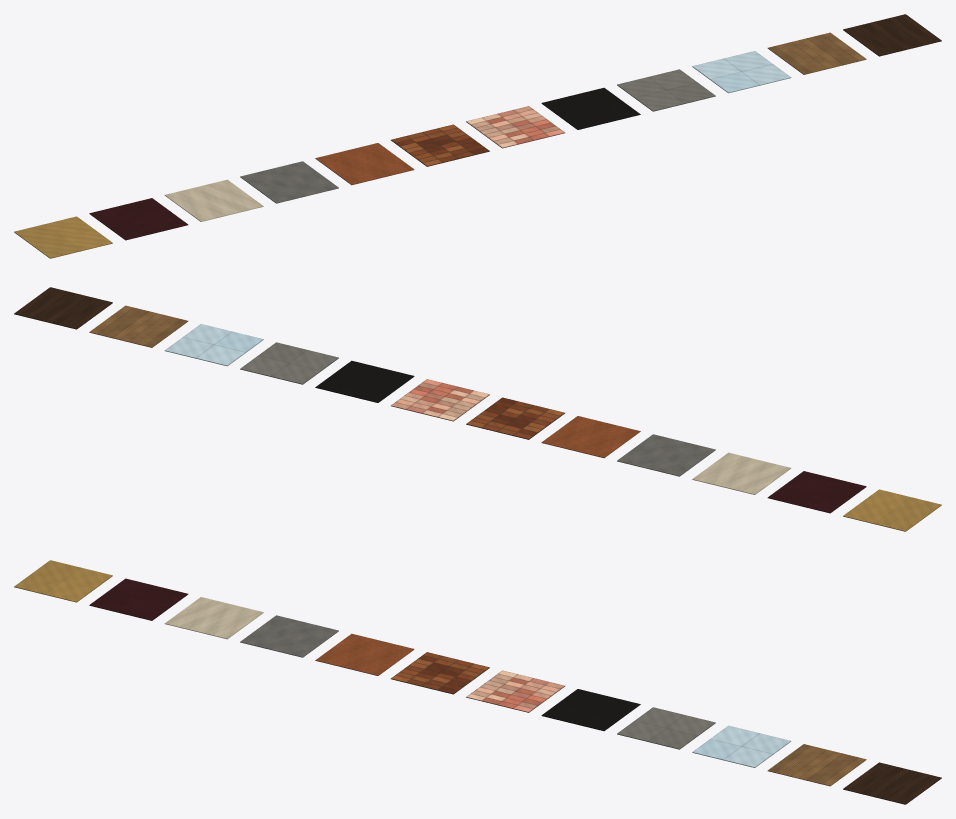
File: surfaces.mobile.glb
3 renders of one model, top to bottom at view 1: azimuth 30°, elevation 25°; view 2: azimuth 150°, elevation 25°; view 3: azimuth 330°, elevation 25°, orthographic.
Parts seen in each view (by area): view 1: Surf_Charcoal, Surf_Concrete, Surf_Hwangto, Surf_IcePanel, Surf_Plaster, Surf_Stone, Surf_Carpet, Surf_Wood, Surf_ClayBrick, Surf_Jangpan, Surf_SaltBrick, Surf_WoodDark; view 2: Surf_Charcoal, Surf_Concrete, Surf_Hwangto, Surf_IcePanel, Surf_Plaster, Surf_Stone, Surf_Carpet, Surf_Wood, Surf_ClayBrick, Surf_Jangpan, Surf_SaltBrick, Surf_WoodDark; view 3: Surf_Charcoal, Surf_Concrete, Surf_Hwangto, Surf_IcePanel, Surf_Plaster, Surf_Stone, Surf_Carpet, Surf_Wood, Surf_ClayBrick, Surf_Jangpan, Surf_SaltBrick, Surf_WoodDark.
Part boxes in pixels (x1=…): Surf_Charcoal: x1=541, y1=87, x2=640, y2=129; Surf_Concrete: x1=240, y1=161, x2=338, y2=203; Surf_Hwangto: x1=315, y1=143, x2=414, y2=185; Surf_IcePanel: x1=692, y1=51, x2=791, y2=93; Surf_Plaster: x1=164, y1=179, x2=263, y2=221; Surf_Stone: x1=617, y1=69, x2=715, y2=111; Surf_Carpet: x1=89, y1=198, x2=188, y2=240; Surf_Wood: x1=767, y1=32, x2=866, y2=74; Surf_ClayBrick: x1=391, y1=124, x2=489, y2=166; Surf_Jangpan: x1=14, y1=216, x2=112, y2=258; Surf_SaltBrick: x1=466, y1=106, x2=564, y2=148; Surf_WoodDark: x1=843, y1=14, x2=941, y2=56; Surf_Charcoal: x1=315, y1=360, x2=414, y2=402; Surf_Concrete: x1=617, y1=434, x2=715, y2=476; Surf_Hwangto: x1=541, y1=416, x2=640, y2=458; Surf_IcePanel: x1=164, y1=324, x2=263, y2=366; Surf_Plaster: x1=692, y1=452, x2=791, y2=494; Surf_Stone: x1=240, y1=342, x2=338, y2=384; Surf_Carpet: x1=767, y1=471, x2=866, y2=513; Surf_Wood: x1=89, y1=305, x2=188, y2=347; Surf_ClayBrick: x1=466, y1=397, x2=564, y2=439; Surf_Jangpan: x1=843, y1=489, x2=941, y2=531; Surf_SaltBrick: x1=391, y1=379, x2=489, y2=421; Surf_WoodDark: x1=14, y1=287, x2=112, y2=329; Surf_Charcoal: x1=541, y1=689, x2=640, y2=731; Surf_Concrete: x1=240, y1=615, x2=338, y2=657; Surf_Hwangto: x1=315, y1=633, x2=414, y2=675; Surf_IcePanel: x1=692, y1=725, x2=791, y2=767; Surf_Plaster: x1=164, y1=597, x2=263, y2=639; Surf_Stone: x1=617, y1=707, x2=715, y2=749; Surf_Carpet: x1=89, y1=578, x2=188, y2=620; Surf_Wood: x1=767, y1=744, x2=866, y2=786; Surf_ClayBrick: x1=391, y1=652, x2=489, y2=694; Surf_Jangpan: x1=14, y1=560, x2=112, y2=602; Surf_SaltBrick: x1=466, y1=670, x2=564, y2=712; Surf_WoodDark: x1=843, y1=762, x2=941, y2=804.
Bounding box in the file's own units: 14.2 × 0.01 × 1.
12 materials, 12 textured.
